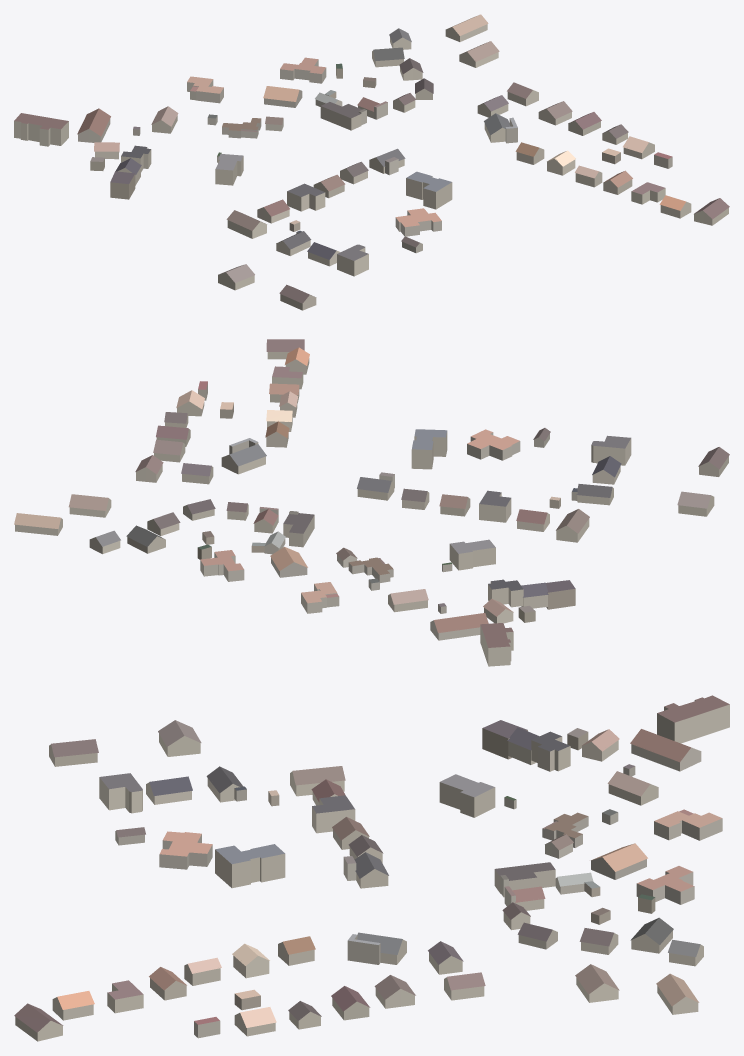
3 views of the same model, one above another, from view 1: azimuth 30°, elevation 25°; view 2: azimuth 150°, elevation 25°; view 3: azimuth 270°, elevation 25° (orthographic). The views are drawn at different scales.
Visible parts, largest first — view 1: tuile; view 2: tuile; view 3: tuile.
Part boxes in pixels (box(x1,y1,x2,y2)): tuile: box(14, 14, 729, 310); tuile: box(14, 339, 729, 666); tuile: box(14, 695, 729, 1041).
Size of the model in its own units: 264 by 15.93 by 254.
